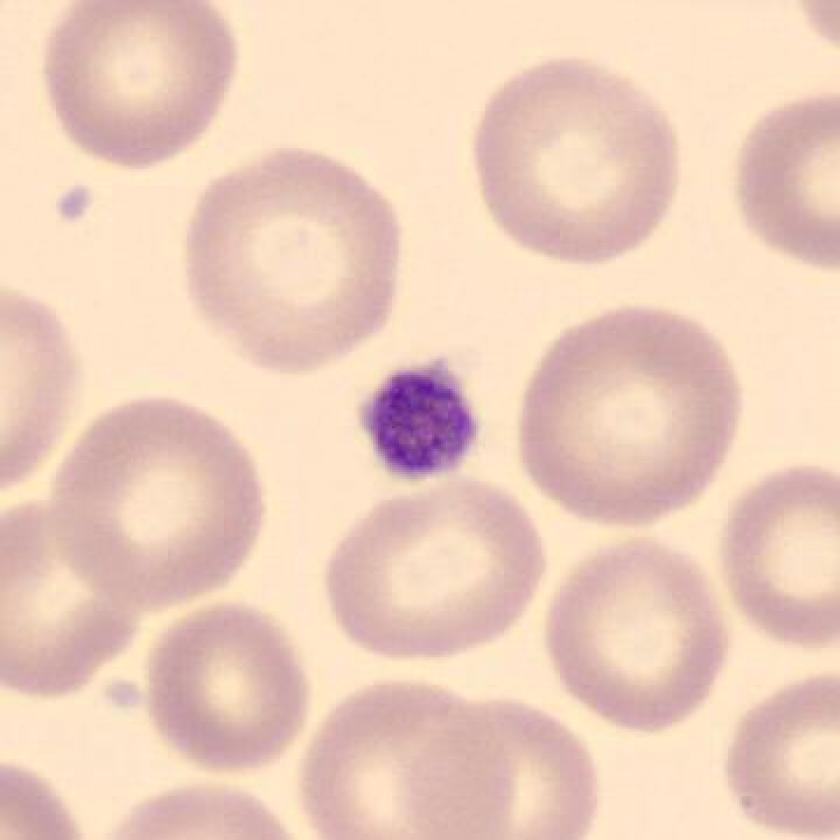platelets: (349, 357, 493, 485)
